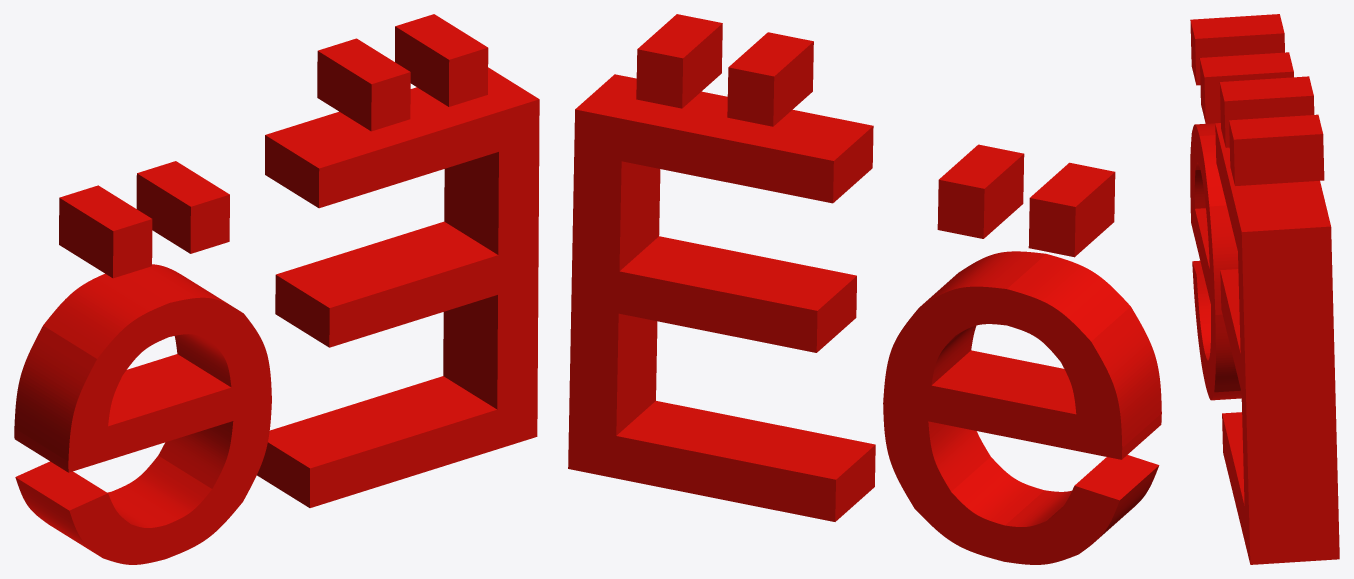
3 renders of one model, left to right at view 1: azimuth 30°, elevation 25°; view 2: azimuth 150°, elevation 25°; view 3: azimuth 270°, elevation 25°, orthographic. The views are drawn at different scales.
Parts seen in each view (by area): view 1: Mesh_0.006; view 2: Mesh_0.006; view 3: Mesh_0.006.
Part boxes in pixels (bbox=[...]): Mesh_0.006: bbox=[14, 14, 539, 564]; Mesh_0.006: bbox=[568, 14, 1161, 564]; Mesh_0.006: bbox=[1190, 14, 1339, 564].
Bounding box in the file's own units: 11.12 × 8.81 × 2.92.
